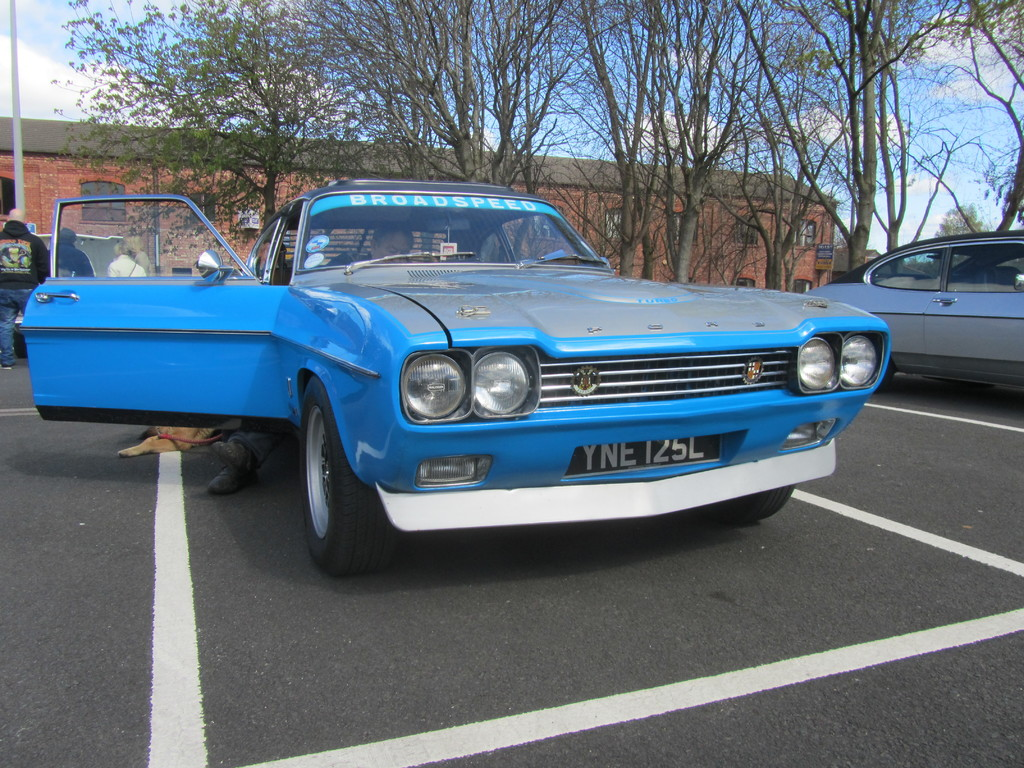Car: (19, 180, 891, 576), (807, 227, 1023, 391)
